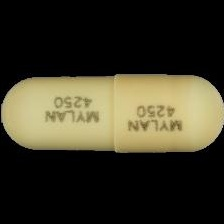61919-081: (0, 0, 224, 224)
